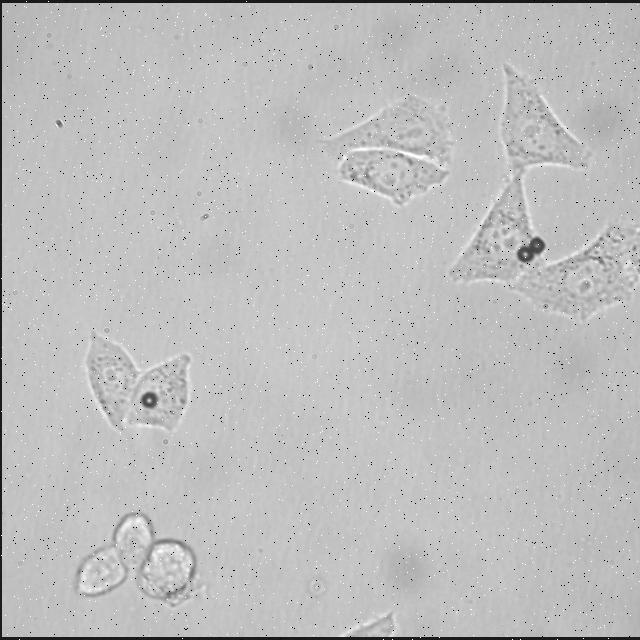microbeads: (140, 393, 158, 411), (531, 239, 551, 255), (516, 248, 532, 262)
